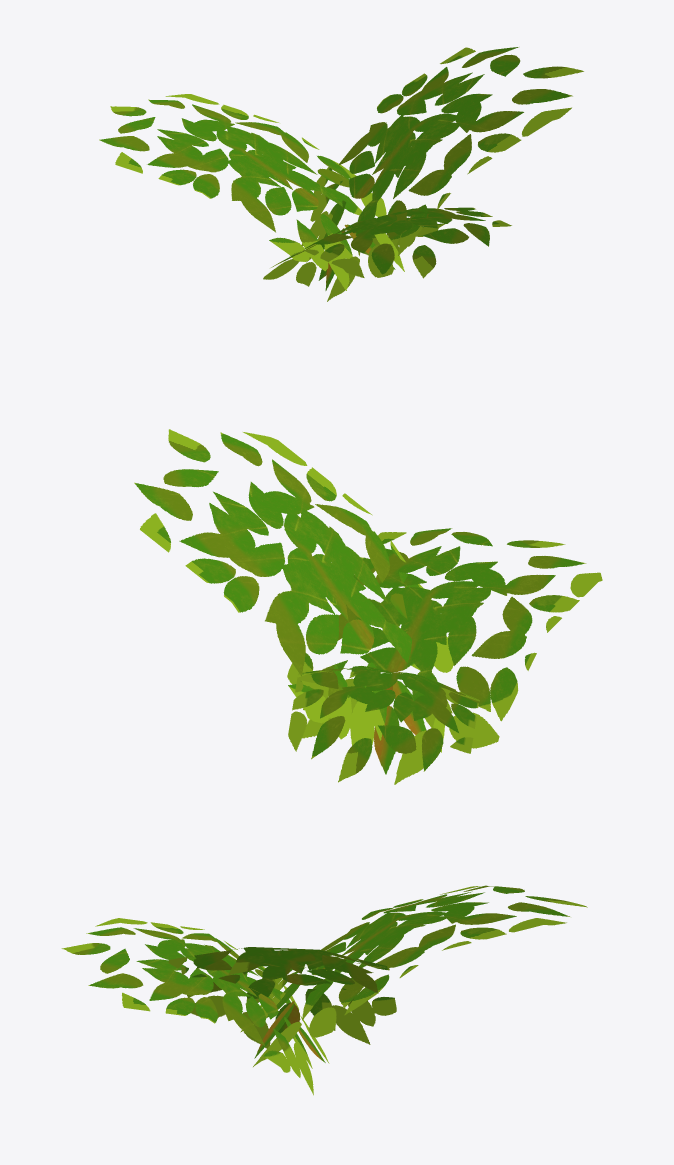
Rendered from Folhitas_03.fbx.
3 renders of one model, top to bottom at view 1: azimuth 30°, elevation 25°; view 2: azimuth 150°, elevation 25°; view 3: azimuth 270°, elevation 25°, orthographic. The views are drawn at different scales.
Visible parts, largest first — view 1: LOWC3; view 2: LOWC3; view 3: LOWC3.
Part boxes in pixels (x1,y1,x2,y2): LOWC3: (99, 47, 583, 301); LOWC3: (134, 429, 602, 784); LOWC3: (61, 885, 587, 1095).
Size of the model in its own units: 4.98 by 2.36 by 5.71.
